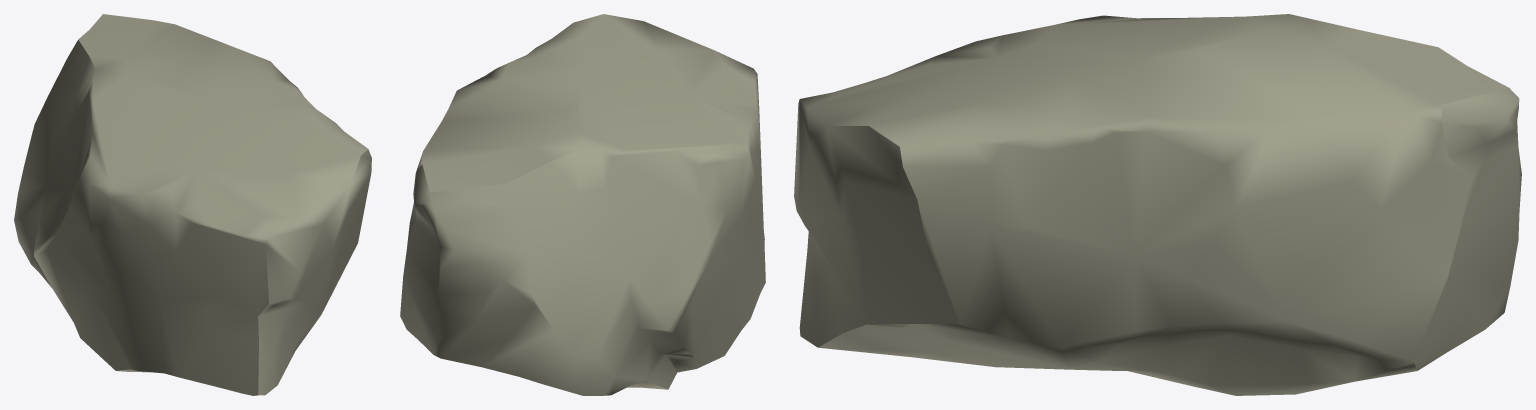
3 renders of one model, left to right at view 1: azimuth 30°, elevation 25°; view 2: azimuth 150°, elevation 25°; view 3: azimuth 270°, elevation 25°, orthographic. The views are drawn at different scales.
Parts seen in each view (by area): view 1: SM_BM_Cliff_Sm_Rocks_02_LOD0; view 2: SM_BM_Cliff_Sm_Rocks_02_LOD0; view 3: SM_BM_Cliff_Sm_Rocks_02_LOD0.
Part boxes in pixels (x1=…): SM_BM_Cliff_Sm_Rocks_02_LOD0: x1=14, y1=14, x2=371, y2=395; SM_BM_Cliff_Sm_Rocks_02_LOD0: x1=400, y1=14, x2=765, y2=395; SM_BM_Cliff_Sm_Rocks_02_LOD0: x1=794, y1=14, x2=1521, y2=395.
Size of the model in its own units: 0.3765 by 0.3665 by 0.664.
